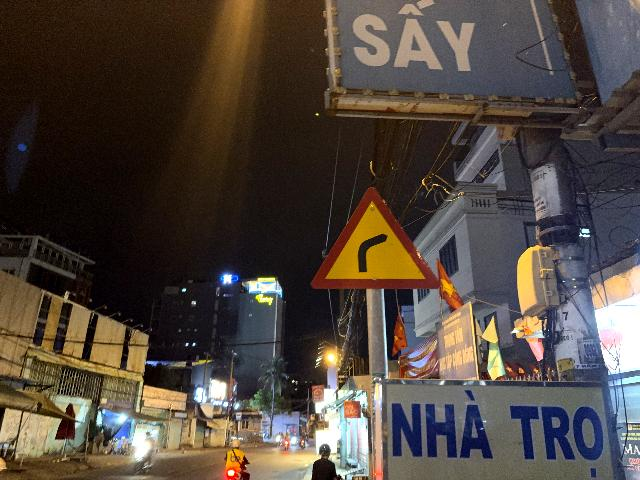cho-ngoat-nguy-hiem-ben-phai: (310, 187, 443, 290)
